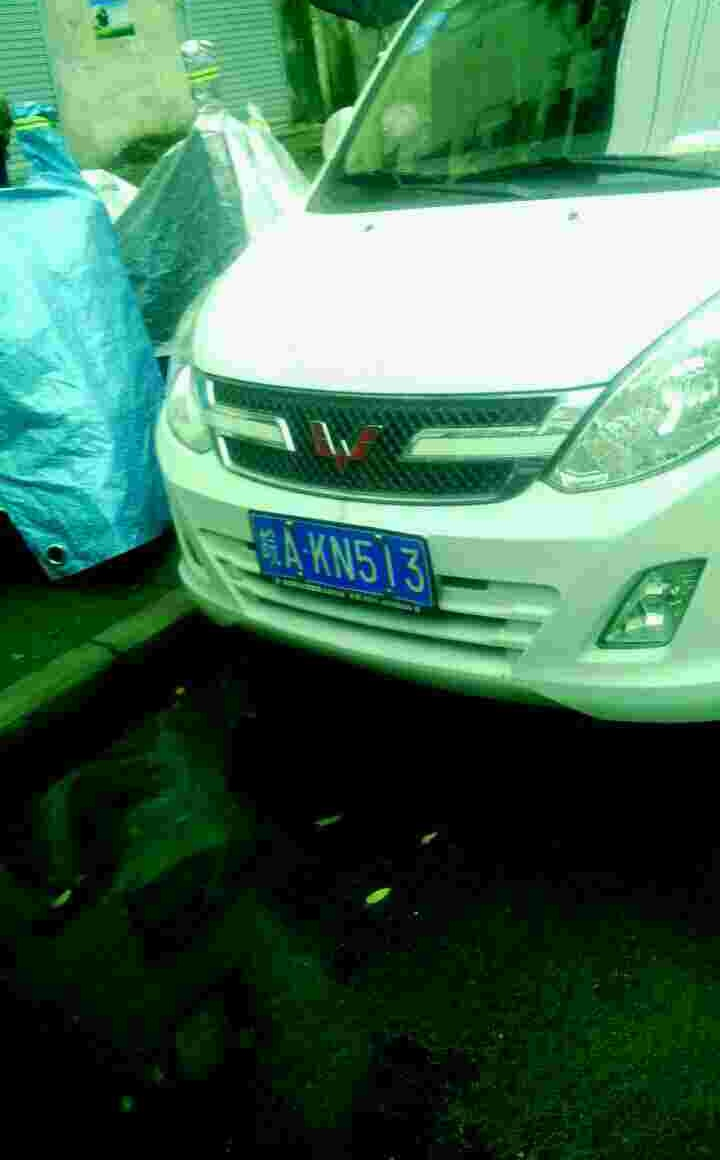license_plate: (252, 512, 437, 609)
